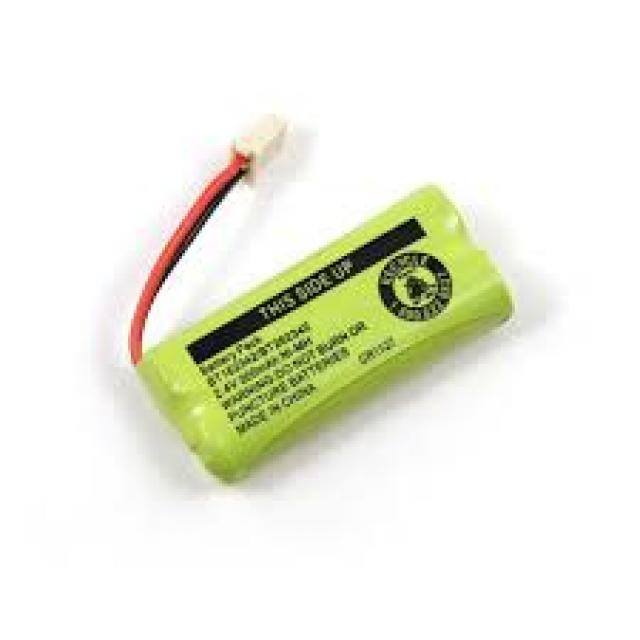non-organic waste: (126, 108, 518, 486)
